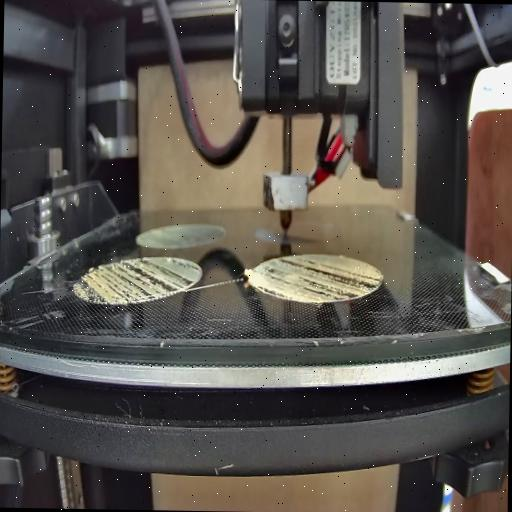under_extrusion: (259, 256, 382, 304), (76, 258, 200, 303)
